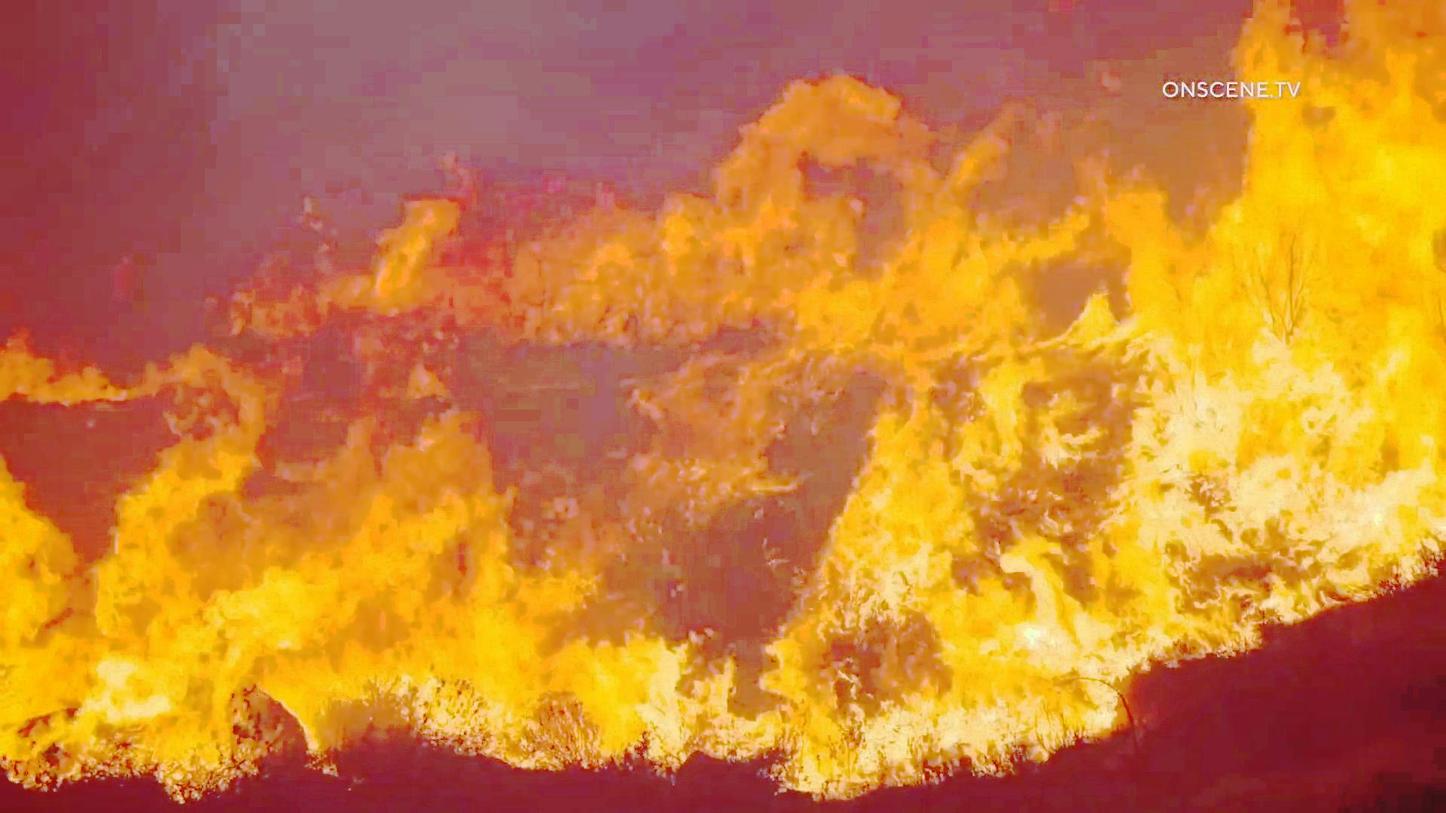fire: (0, 17, 1156, 714), (1164, 96, 1446, 601)
